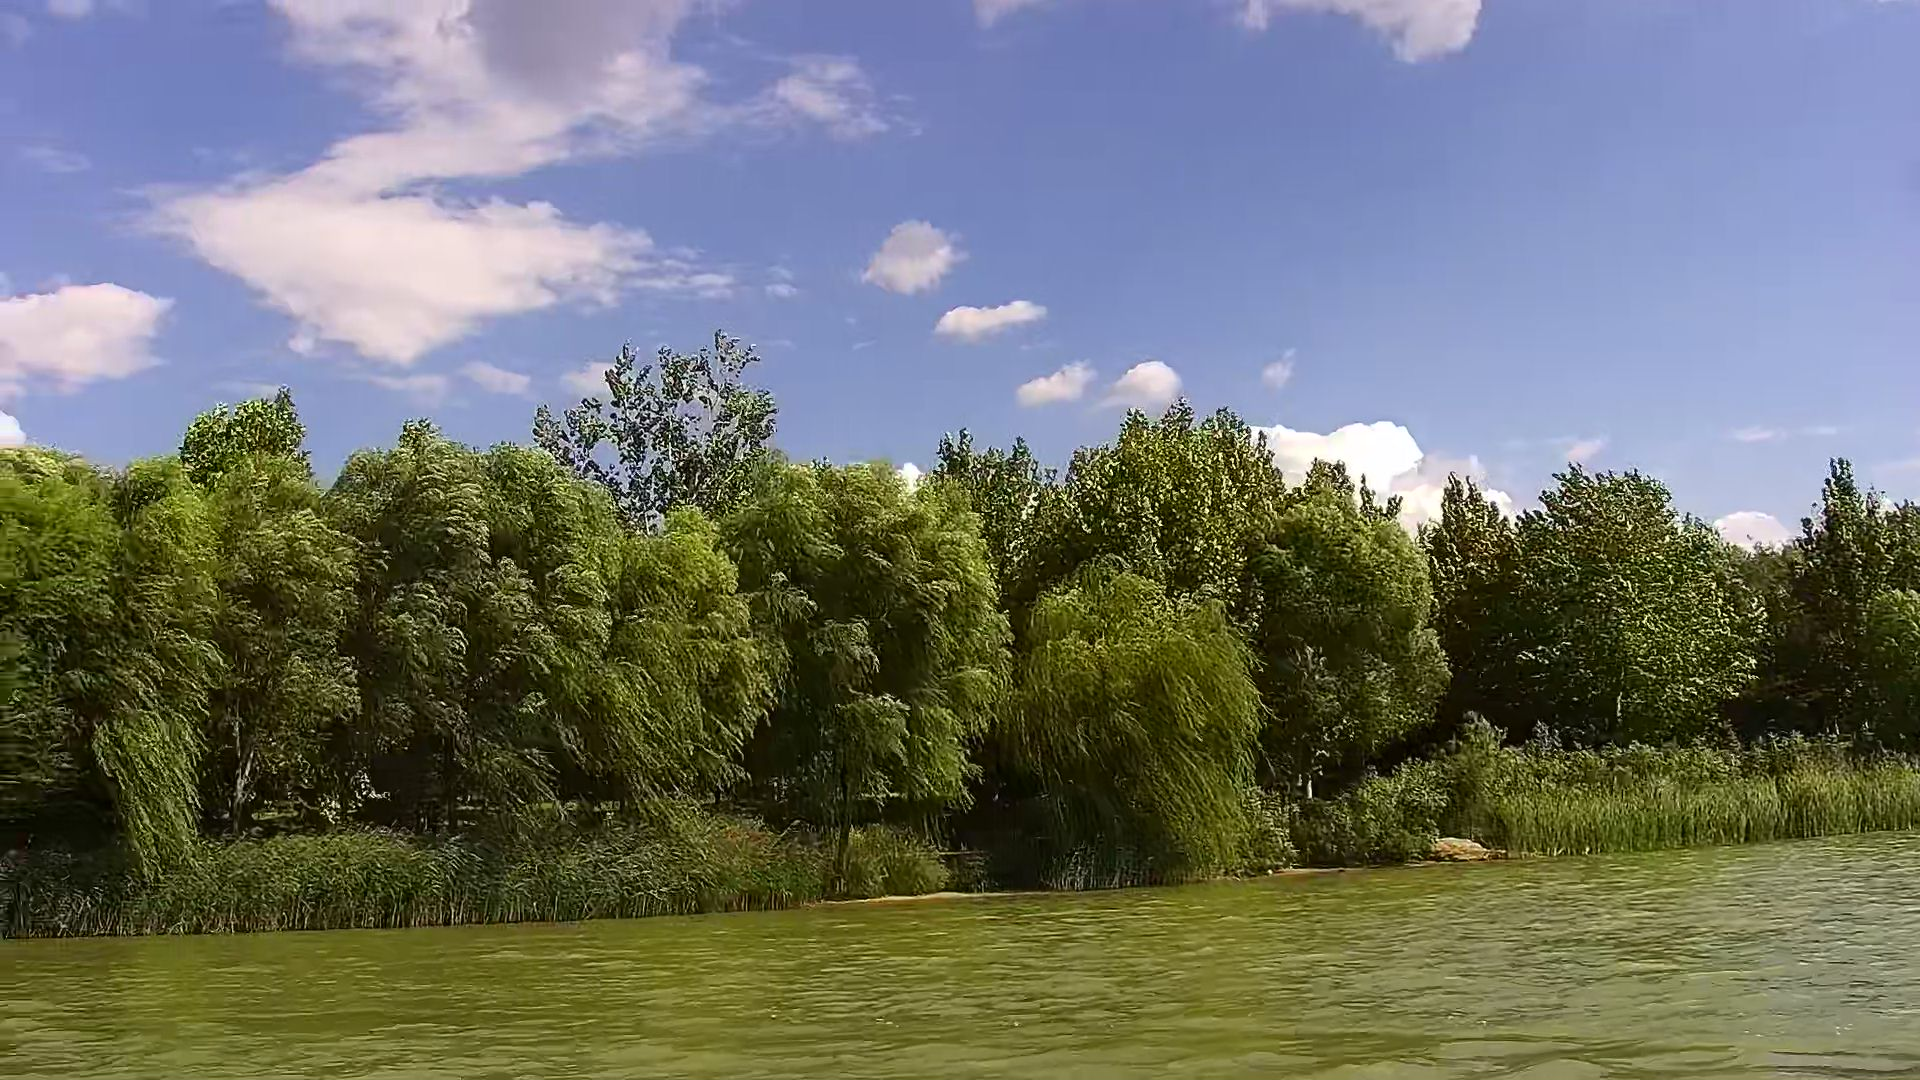rock: (1429, 837, 1497, 864)
